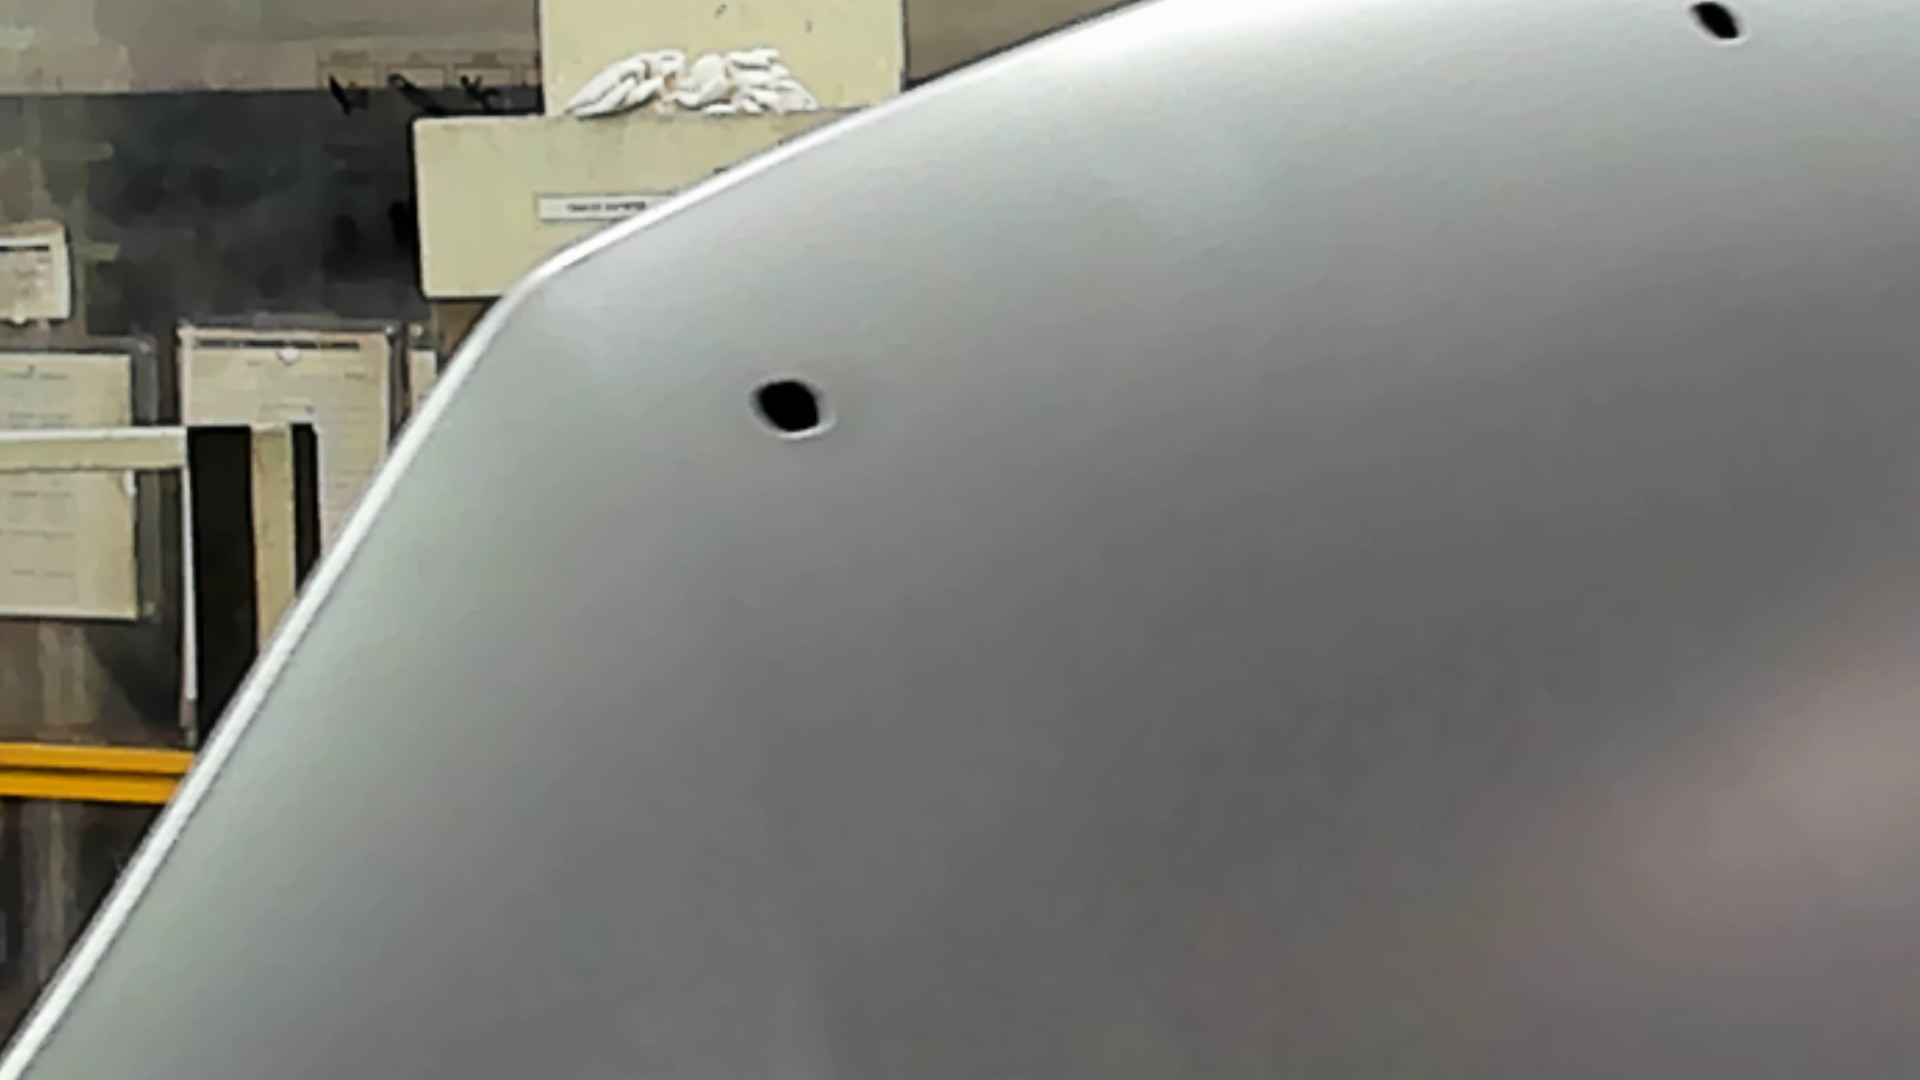amorfo: (742, 369, 843, 447), (1677, 1, 1753, 51)
capo: (938, 87, 1920, 1080)
